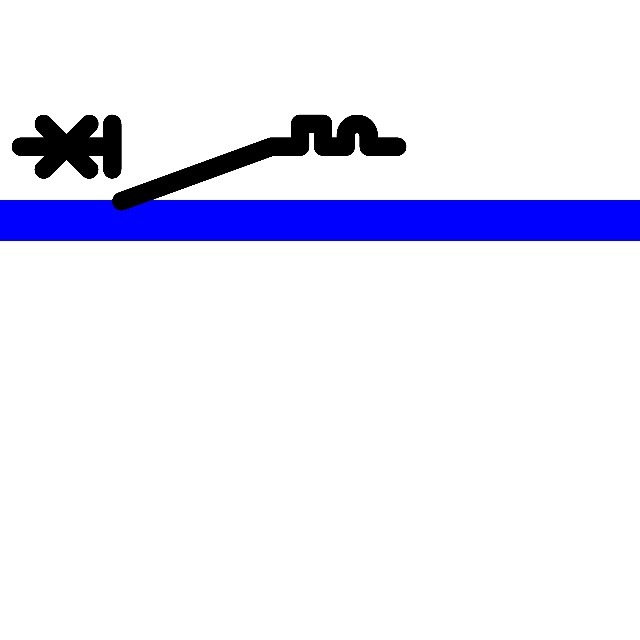interruptor_termomagnetico: (11, 114, 407, 211)
